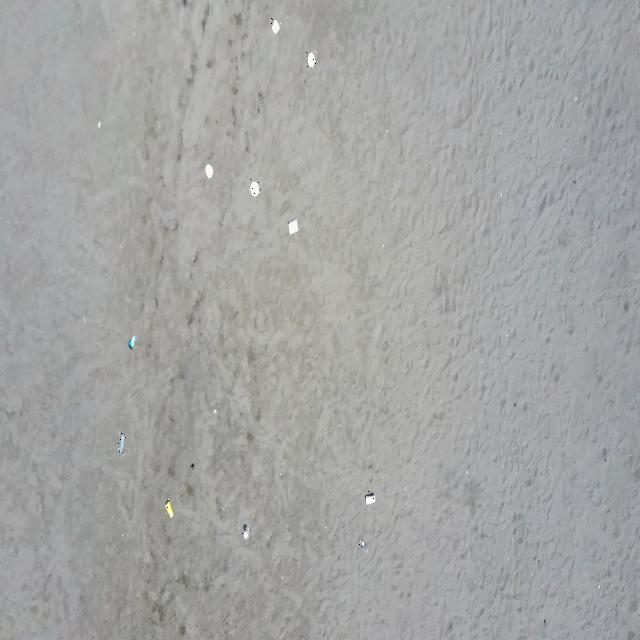take-away-containers: (287, 215, 299, 237), (249, 179, 261, 199), (204, 163, 214, 181), (271, 18, 281, 36), (306, 51, 316, 69)
takeaway-cup: (166, 499, 176, 520), (117, 432, 126, 455), (358, 536, 368, 555), (365, 491, 376, 507), (242, 524, 251, 541), (128, 334, 137, 351)
